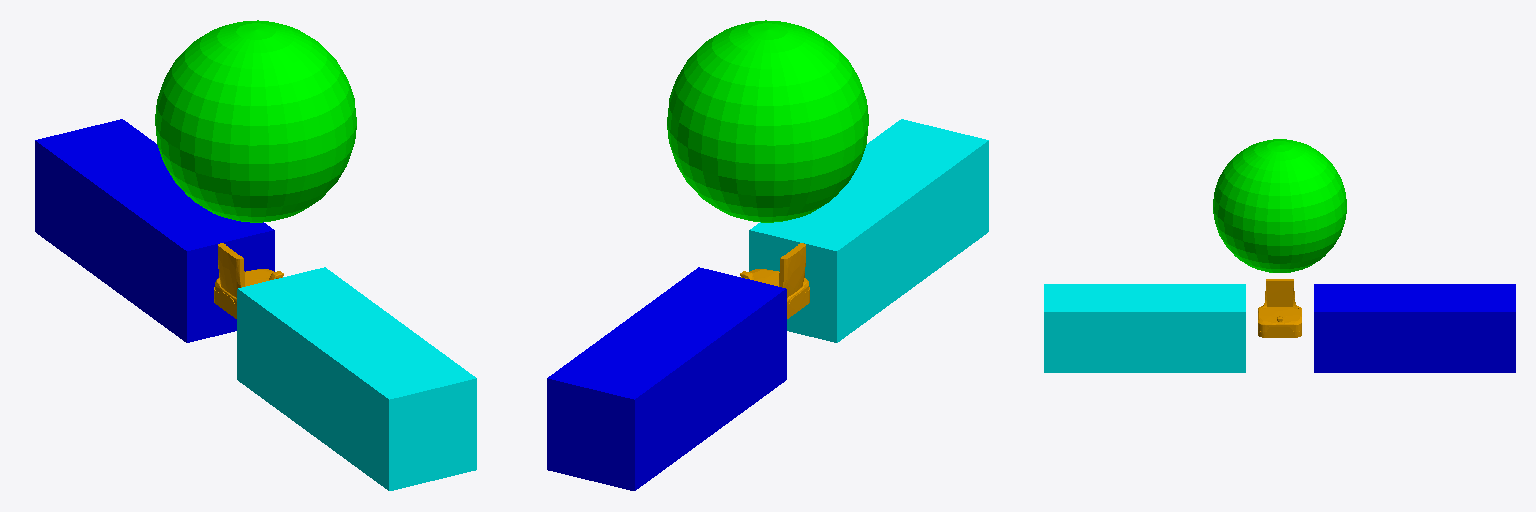
URDF robot description (test_robot):
<?xml version="1.0" ?>
<robot name="test_robot" xmlns:xacro="http://www.ros.org/wiki/xacro">
    <material name="RVIZ/Cyan">
        <color rgba="0.0 1.0 1.0 1.0"/>
    </material>
    <material name="RVIZ/Green">
        <color rgba="0.0 1.0 0.0 1.0"/>
    </material>
    <material name="RVIZ/Blue">
        <color rgba="0.0 0.0 1.0 1.0"/>
    </material>
    <link name="test_robot_link">
        <collision>
            <origin rpy="0 0 0" xyz="0 0 0"/>
            <geometry>
                <box size="1 1 1"/>
            </geometry>
        </collision>
        <visual>
            <origin rpy="0 0 0" xyz="0 0 0"/>
            <geometry>
                <mesh filename="package://rviz_rendering_tests/test_meshes/pr2-base.dae"/>
            </geometry>
        </visual>
    </link>
    <joint name="test_robot_fixed1" type="fixed">
        <origin rpy="0 0 0" xyz="0 0 0"/>
        <parent link="test_robot_link"/>
        <child link="test_robot_link_right_arm"/>
    </joint>
    <link name="test_robot_link_right_arm">
        <visual>
            <origin rpy="0 0 0" xyz="0 -2 0 "/>
            <geometry>
                <box size="1 3 1"/>
            </geometry>
            <material name="RVIZ/Cyan"/>
        </visual>
    </link>
    <joint name="test_robot_fixed2" type="fixed">
        <origin rpy="0 0 0" xyz="0 0 0"/>
        <parent link="test_robot_link"/>
        <child link="test_robot_link_left_arm"/>
    </joint>
    <link name="test_robot_link_left_arm">
        <visual>
            <origin rpy="0 0 0" xyz="0 2 0 "/>
            <geometry>
                <box size="1 3 1"/>
            </geometry>
            <material name="RVIZ/Blue"/>
        </visual>
    </link>
    <joint name="test_robot_continuous" type="continuous">
        <origin rpy="0 0 0" xyz="0 0 0"/>
        <parent link="test_robot_link"/>
        <child link="test_robot_link_head"/>
        <origin rpy="0 0 0" xyz="0 0 0"/>
        <axis xyz="0 0 1"/>
    </joint>
    <link name="test_robot_link_head">
        <visual>
            <origin rpy="0 0 0" xyz = "0 0 2"/>
            <geometry>
                <sphere radius="1"/>
            </geometry>
            <material name="RVIZ/Green"/>
        </visual>
    </link>
</robot>

--- What the picture shows (computed from the rendered views, not written in the file) ---
The picture shows the robot from 3 angles, left to right: view 1: azimuth 30°, elevation 25°; view 2: azimuth 150°, elevation 25°; view 3: azimuth 270°, elevation 25°; orthographic projection.
Robot: test_robot — 4 links, 3 joints (1 continuous, 2 fixed); root link test_robot_link; default pose: all joints at 0.
Visible links, largest first — view 1: test_robot_link_right_arm, test_robot_link_head, test_robot_link_left_arm, test_robot_link; view 2: test_robot_link_left_arm, test_robot_link_head, test_robot_link_right_arm, test_robot_link; view 3: test_robot_link_right_arm, test_robot_link_left_arm, test_robot_link_head, test_robot_link.
Link boxes in pixels (<box>): test_robot_link_right_arm: <box>237,267,476,490</box>; test_robot_link_head: <box>155,20,356,222</box>; test_robot_link_left_arm: <box>35,119,274,342</box>; test_robot_link: <box>214,243,283,318</box>; test_robot_link_left_arm: <box>547,267,786,490</box>; test_robot_link_head: <box>667,20,868,222</box>; test_robot_link_right_arm: <box>749,119,988,342</box>; test_robot_link: <box>740,243,809,318</box>; test_robot_link_right_arm: <box>1044,284,1245,372</box>; test_robot_link_left_arm: <box>1314,284,1515,372</box>; test_robot_link_head: <box>1213,139,1346,272</box>; test_robot_link: <box>1258,279,1301,337</box>.
Size in the robot's own frame: 2 by 7 by 3.5 metres.
1 mesh visuals loaded from 1 distinct referenced files (1 Collada DAE).